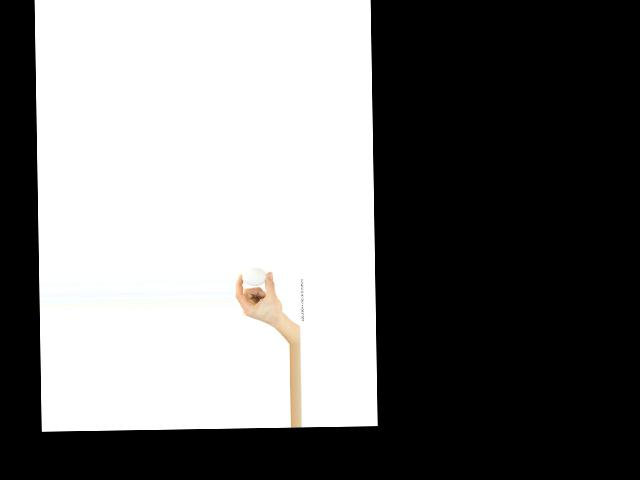egg: (242, 268, 266, 286)
